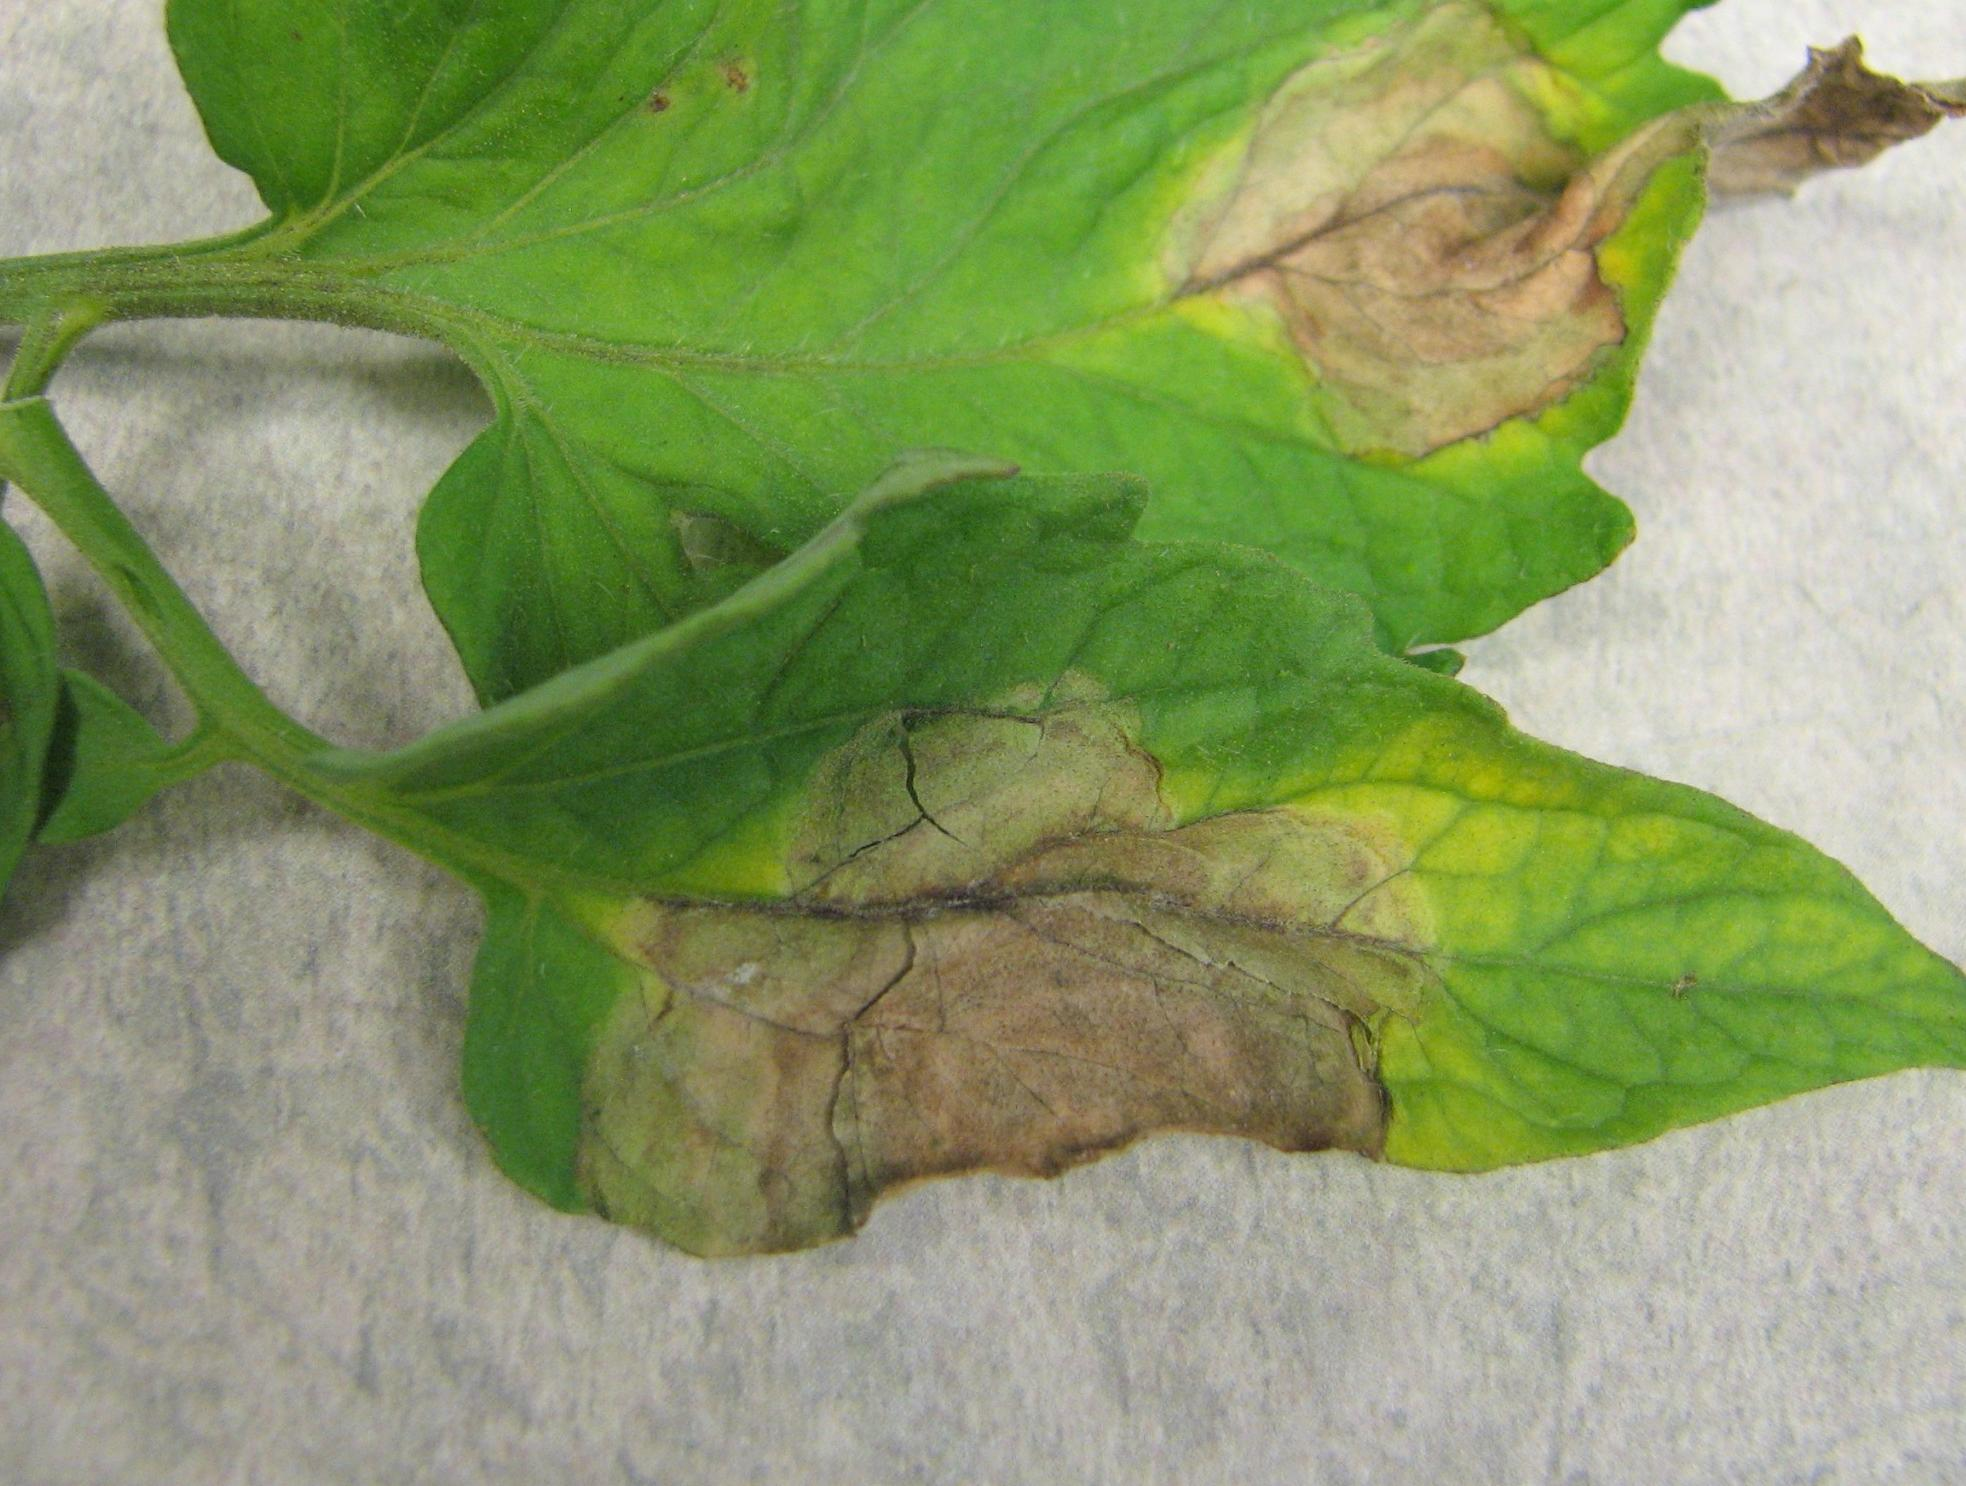Tomato leaf late blight: (348, 473, 1966, 1313), (114, 0, 1966, 592)
